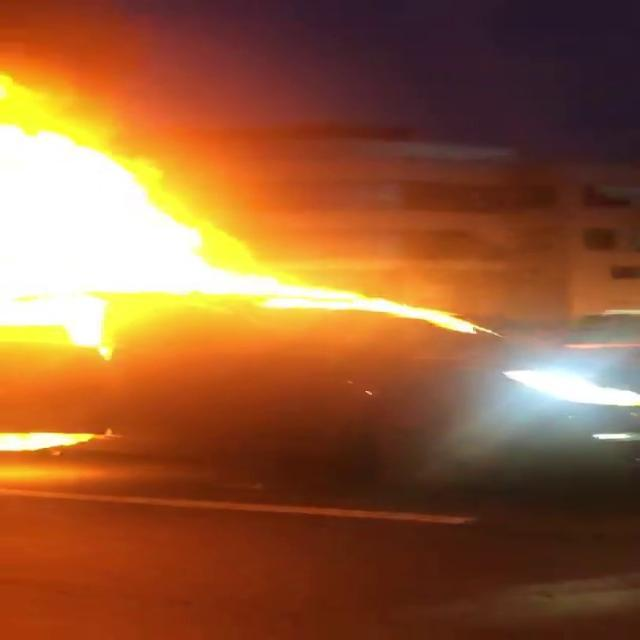Fire: (0, 68, 282, 350), (243, 257, 484, 337)
